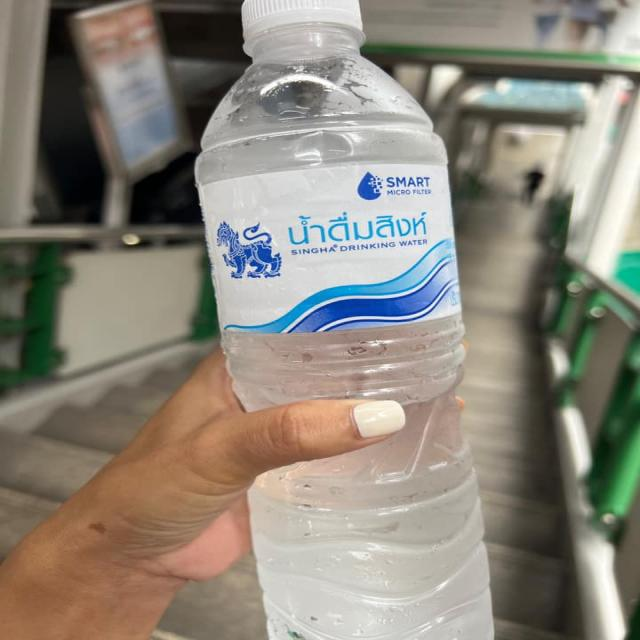bottle: (190, 0, 500, 640)
